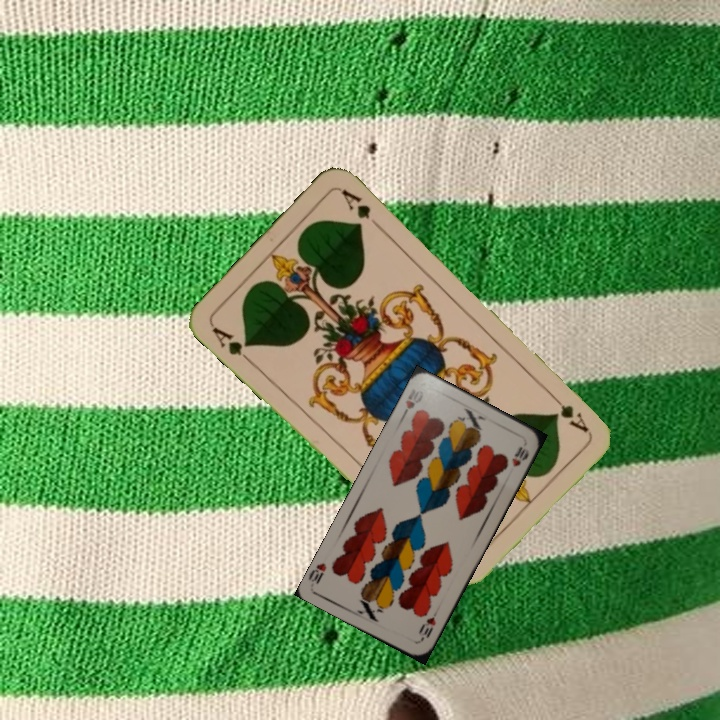GA: (545, 388, 592, 436), (208, 323, 256, 367)
H10: (397, 385, 426, 421), (414, 613, 439, 644)
